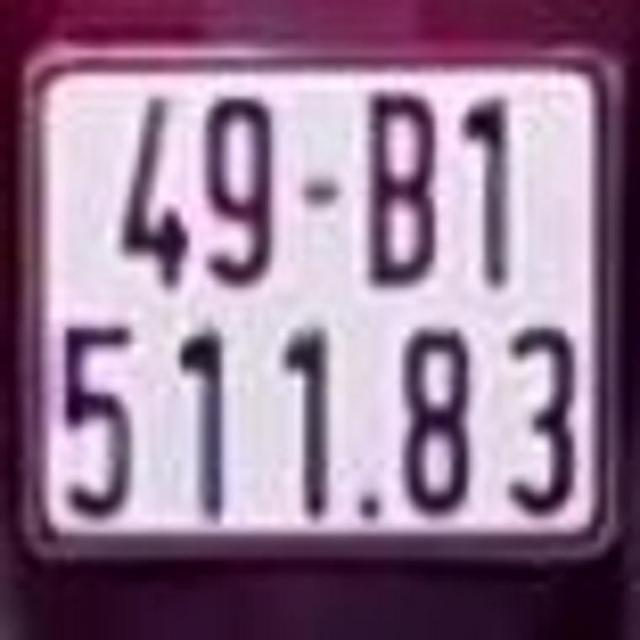1: (454, 73, 522, 287), (171, 314, 237, 527), (278, 312, 340, 522)
3: (508, 308, 578, 524)
4: (117, 85, 191, 292)
5: (55, 318, 136, 516)
8: (397, 310, 475, 516)
9: (200, 78, 276, 300)
B: (358, 82, 448, 289)
